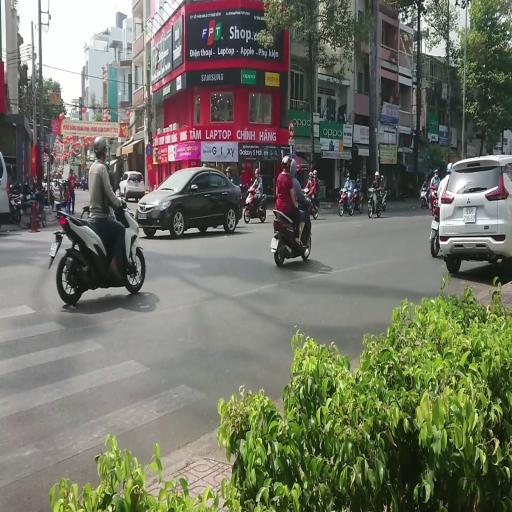bikes: (48, 196, 146, 306), (270, 191, 312, 266), (429, 164, 453, 258), (8, 180, 46, 228), (243, 184, 267, 223), (429, 198, 441, 258), (8, 181, 23, 224), (30, 187, 46, 227), (420, 166, 433, 208), (302, 187, 318, 219), (367, 185, 383, 217), (338, 186, 355, 216), (348, 187, 363, 214), (428, 184, 438, 216), (420, 181, 430, 209), (338, 188, 347, 216), (380, 187, 390, 210), (58, 178, 67, 200), (356, 190, 364, 212), (80, 176, 87, 190)
helmet: (93, 136, 108, 156), (282, 155, 292, 170), (289, 160, 297, 178), (294, 158, 301, 172), (446, 162, 452, 172), (254, 168, 260, 176), (105, 160, 110, 169), (292, 150, 297, 158), (30, 184, 35, 192), (296, 163, 300, 171), (308, 172, 313, 178), (226, 166, 231, 172), (375, 171, 379, 177), (313, 170, 317, 176), (380, 174, 384, 180), (352, 180, 356, 186), (346, 172, 350, 177), (70, 168, 74, 173), (81, 176, 85, 181), (356, 178, 360, 183), (357, 174, 360, 180), (434, 170, 438, 174), (425, 175, 428, 180)
